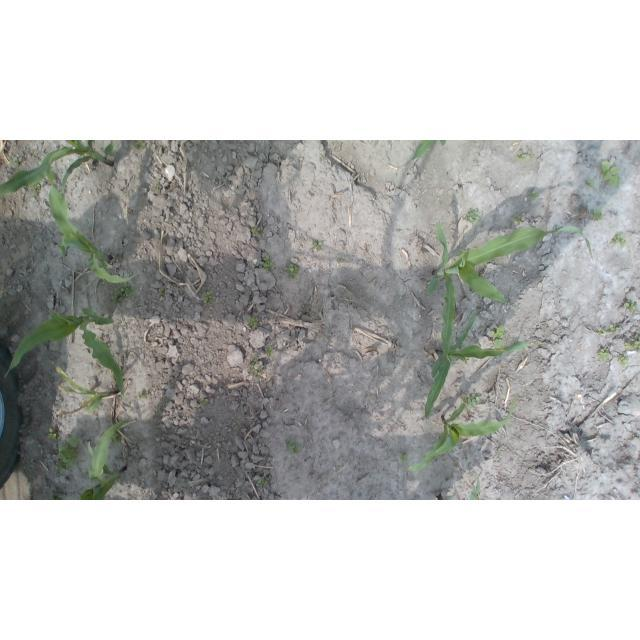Maize: (423, 273, 534, 424), (426, 223, 595, 310), (4, 305, 127, 403), (47, 182, 140, 283), (404, 399, 517, 474), (0, 141, 116, 197), (80, 418, 133, 500), (52, 361, 122, 420), (434, 476, 482, 501), (400, 141, 446, 163)
Weeds: (594, 325, 640, 366), (54, 437, 79, 471), (600, 162, 621, 187), (487, 324, 507, 349), (112, 284, 135, 304), (462, 394, 482, 407), (286, 440, 302, 454), (252, 357, 263, 377), (517, 150, 536, 160), (625, 300, 638, 313), (611, 234, 625, 246), (131, 143, 145, 154), (466, 211, 479, 222), (204, 291, 214, 302), (247, 316, 257, 327), (263, 259, 272, 270), (49, 429, 58, 440), (252, 227, 265, 234), (286, 264, 295, 274), (13, 157, 22, 167), (257, 478, 268, 486), (266, 345, 273, 356), (140, 392, 151, 399), (593, 212, 602, 220), (314, 242, 322, 249), (512, 216, 520, 223), (160, 287, 165, 297), (201, 399, 208, 406), (587, 181, 594, 188), (531, 192, 537, 198)
